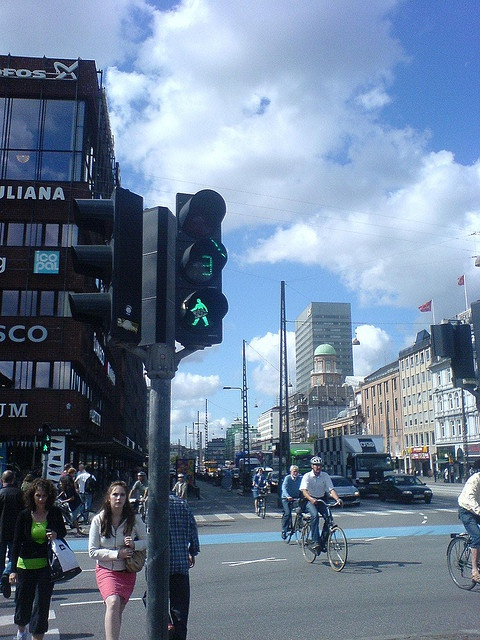non-vehicle: (300, 499, 348, 573), (445, 531, 475, 590), (57, 499, 97, 535), (284, 497, 308, 545), (255, 483, 267, 517)
